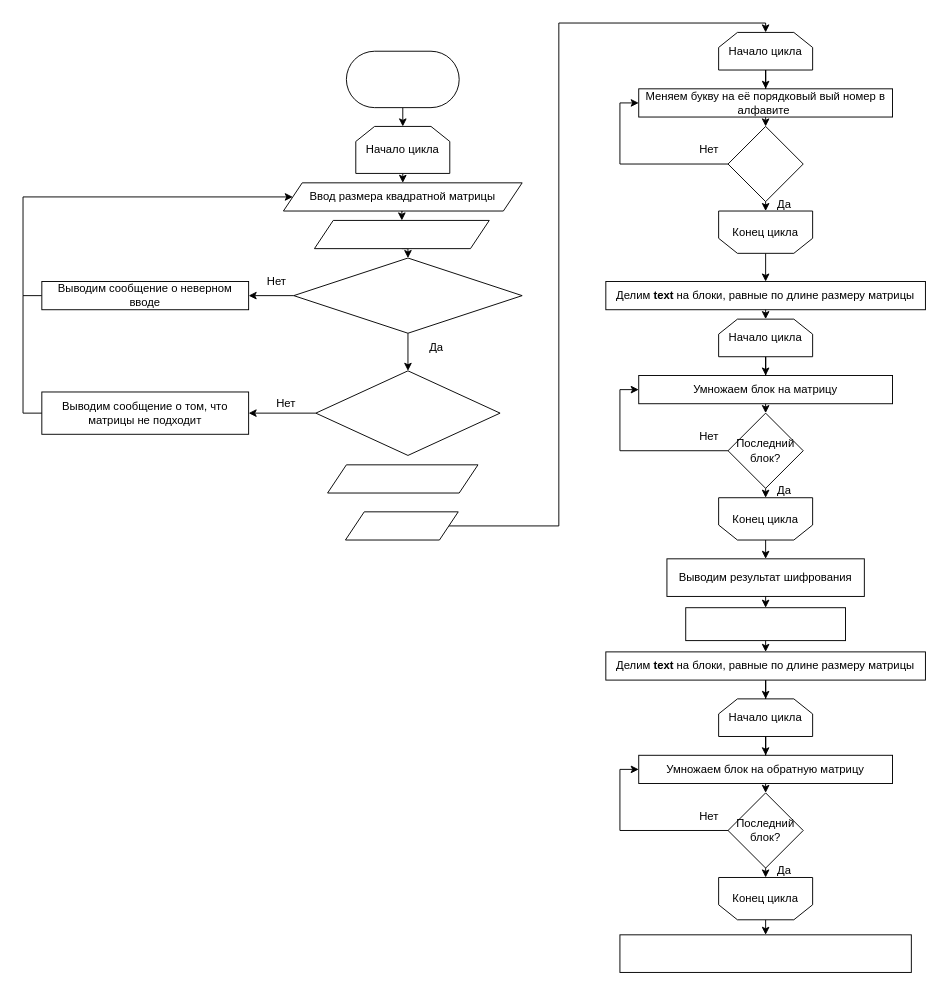
Image size: 942x989. Some labels were removed from this diagram. Each missing label, with the box of its shape:
Ввод режима task: (327, 464, 478, 493)
Ввод соответствует размеру матрицы: (293, 257, 522, 333)
Ввод текста text: (345, 511, 458, 540)
Вводим числа матрицы: (313, 219, 489, 249)
Выводим результат расшифрования: (619, 934, 911, 972)
Для матрицы существует обратная?: (315, 370, 500, 455)
Находим обратную матрицу: (685, 607, 846, 641)
Начало: (345, 50, 459, 108)
Последняя буква?: (727, 125, 803, 202)
